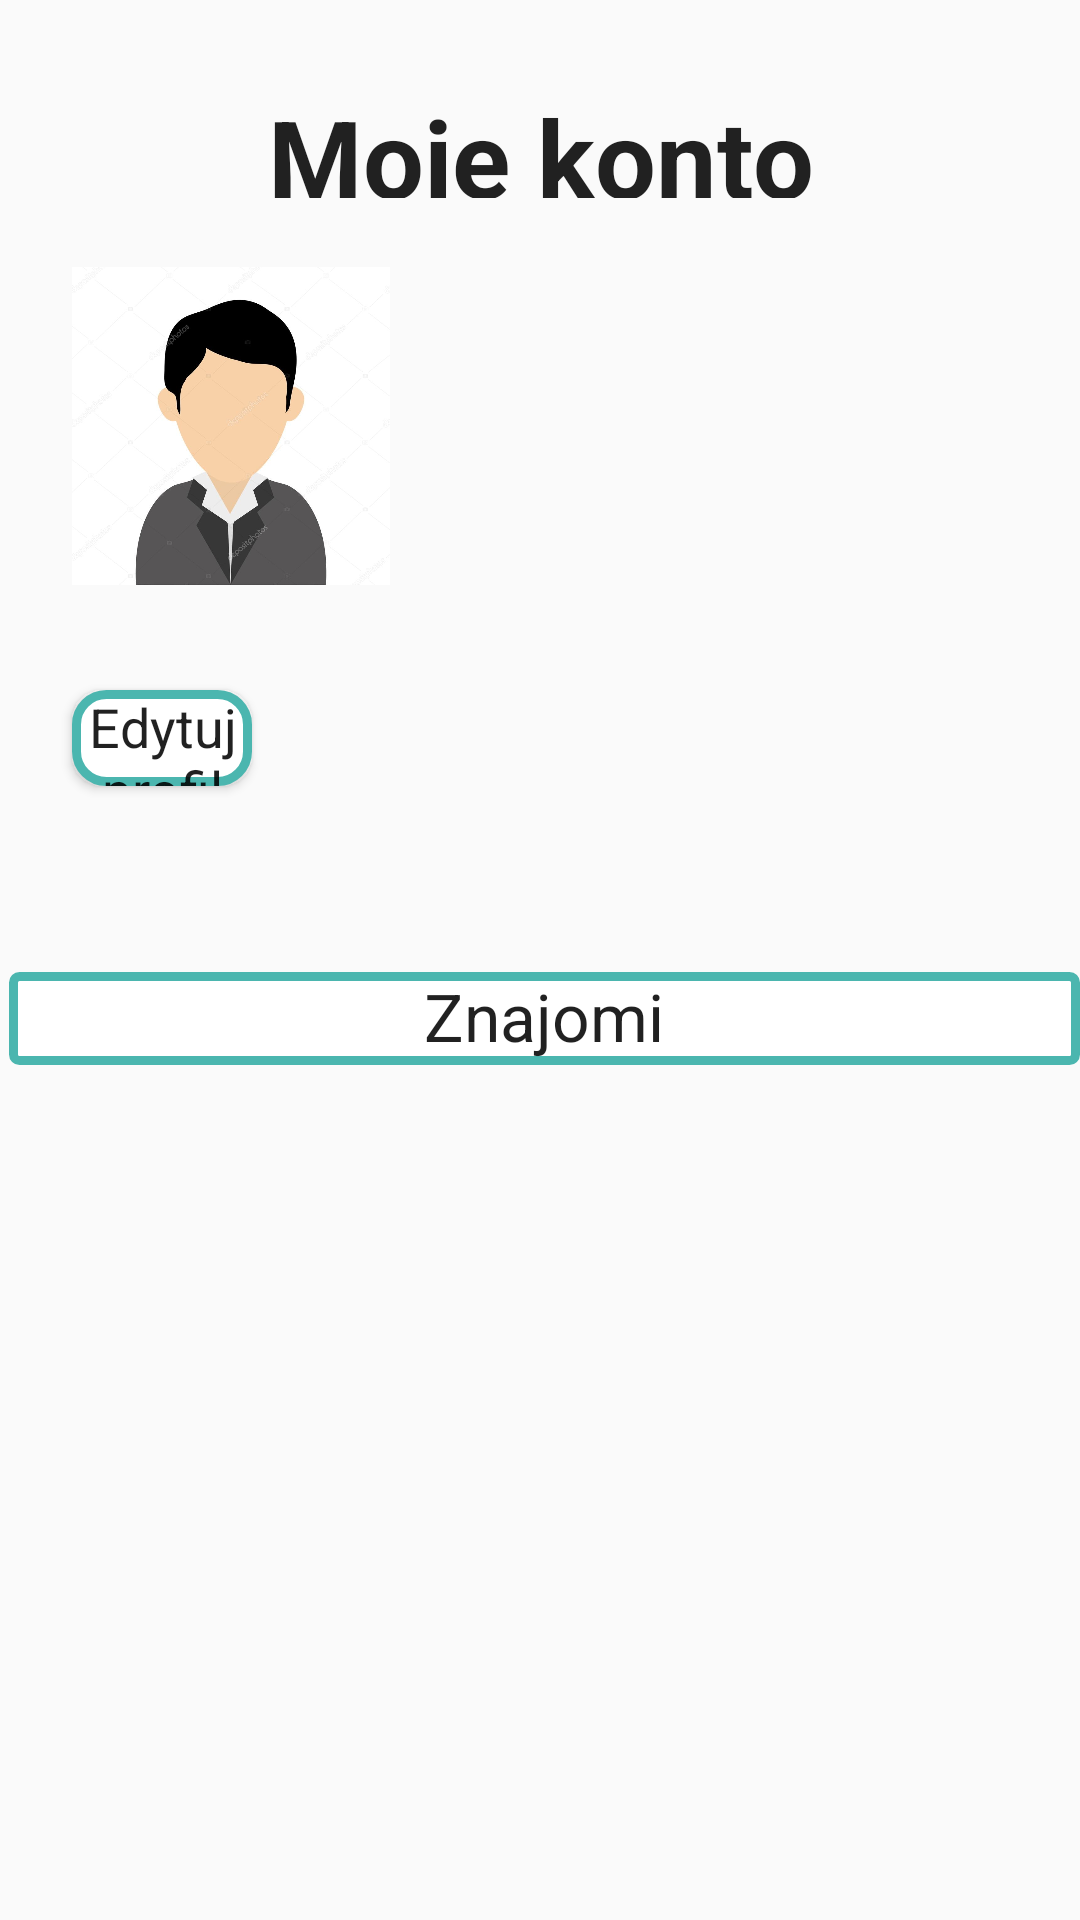

Icons on this 1080x1920 Android screen, each with its box as region(x1, y1, x2, y2):
user: region(135, 300, 327, 585)
